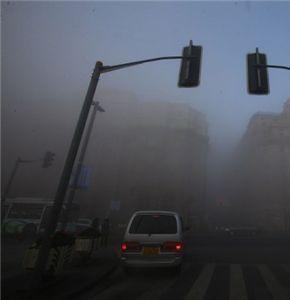bus: (1, 198, 81, 237)
car: (118, 209, 187, 276)
